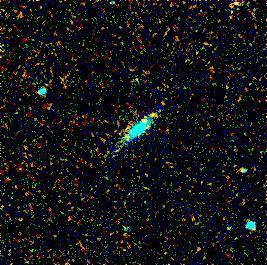star: (138, 99, 168, 129)
